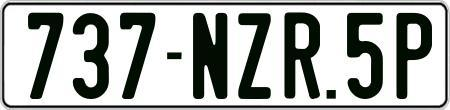3: (71, 12, 112, 99)
5: (345, 10, 387, 98)
7: (117, 12, 153, 102), (26, 12, 61, 99)
N: (193, 13, 231, 99)
P: (396, 12, 437, 104)
R: (283, 10, 323, 97)
Z: (238, 11, 275, 102)
